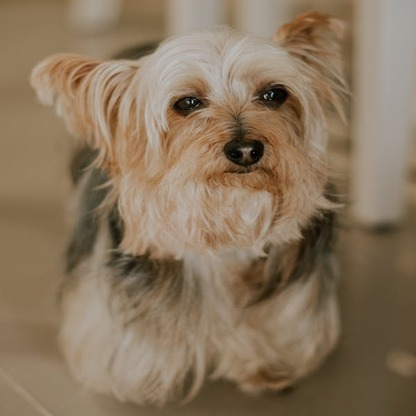yorkshire: (30, 10, 352, 404)
